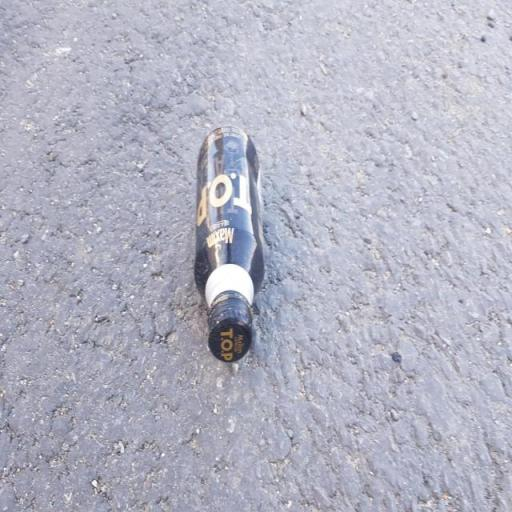metal: (187, 120, 271, 385)
